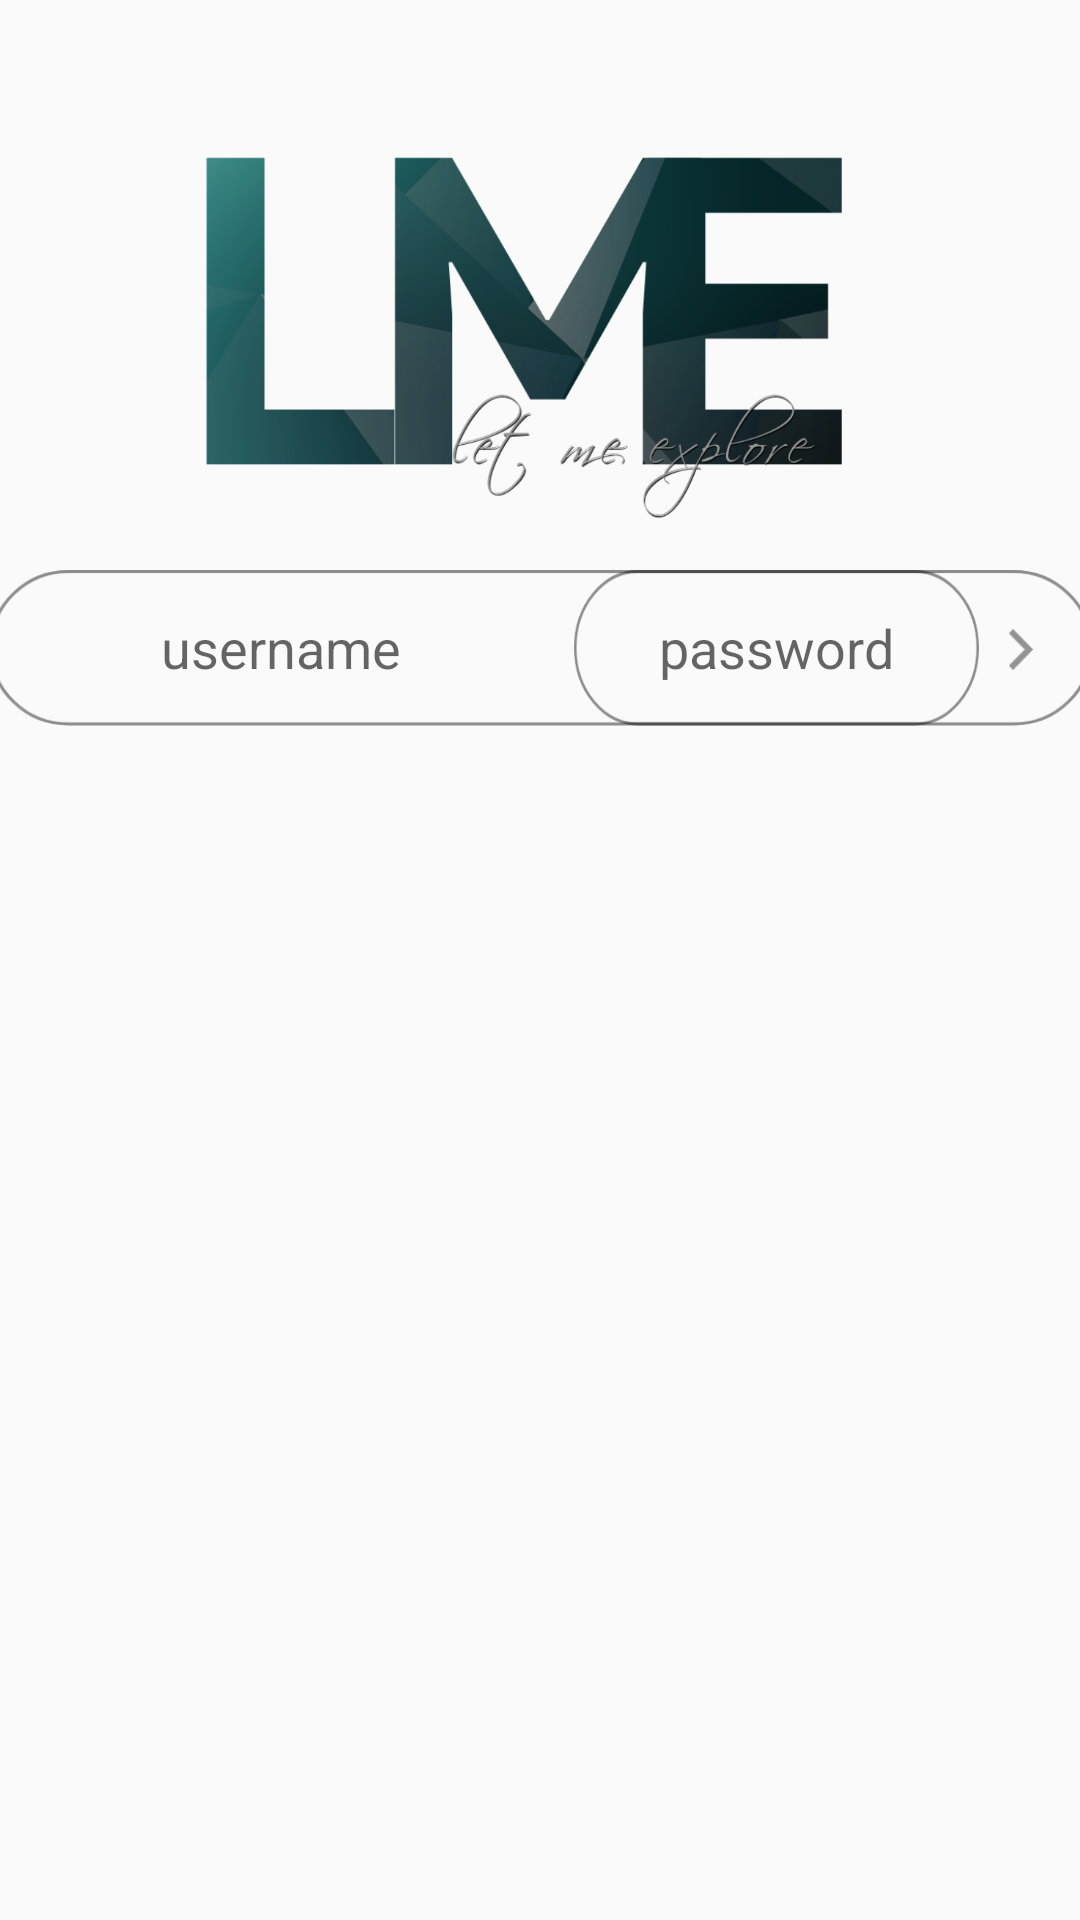

Where to tap for icons on this 1080x1920 app screen, as point (x, y):
loginok: point (1021, 649)
